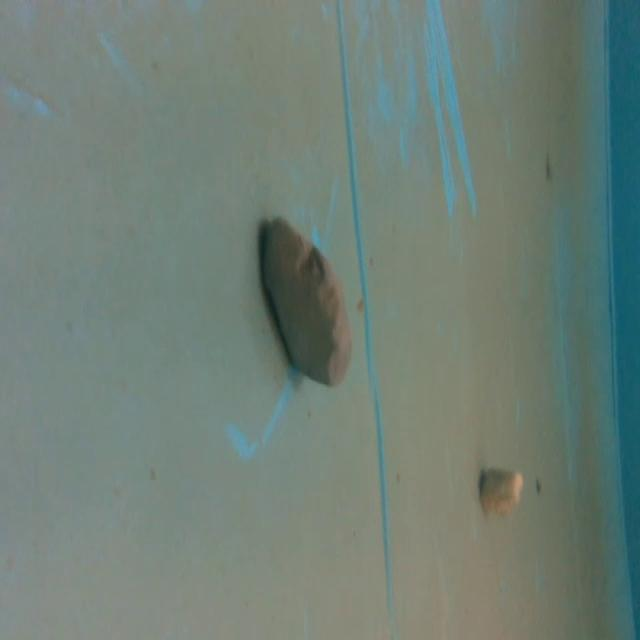rock: (256, 211, 356, 389), (472, 461, 527, 520)
